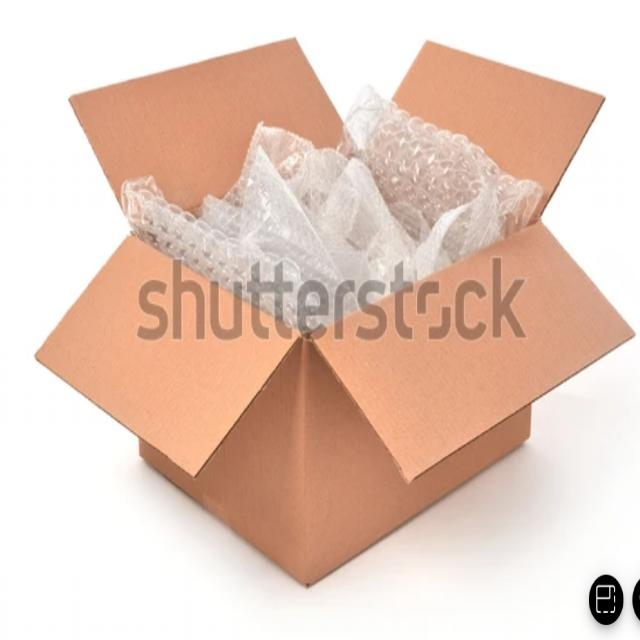dry: (146, 313, 495, 537), (233, 170, 449, 272)
